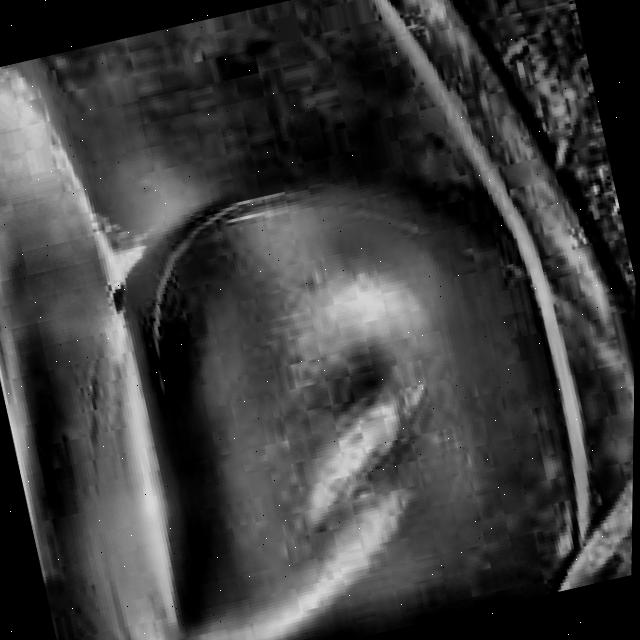bumper_dent: (110, 155, 540, 640)
